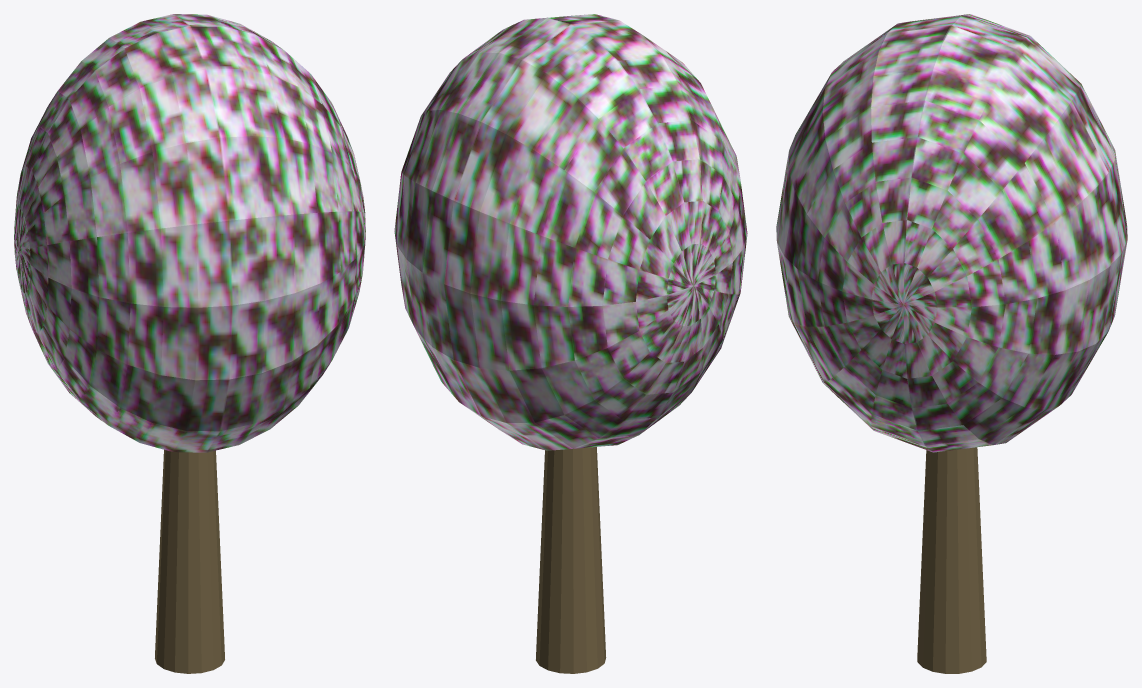
File: GMLID_SO0321978_1466_7441.dae
3 renders of one model, left to right at view 1: azimuth 30°, elevation 25°; view 2: azimuth 150°, elevation 25°; view 3: azimuth 270°, elevation 25°, orthographic.
Bounding box in the file's own units: 6.75 × 6.75 × 13.43.
Materials: 2 (1 with a texture image).
